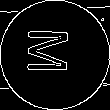M_E: (29, 31, 81, 79)
